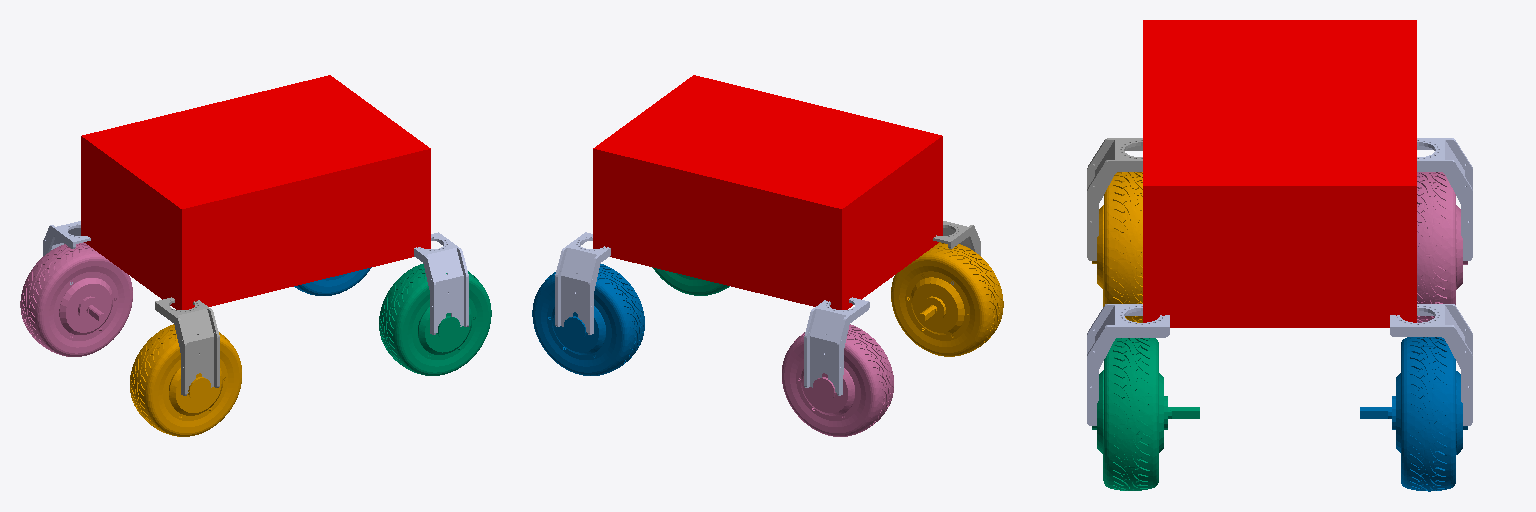
The robot description file, URDF, robot "ranger_mini_v3":
<?xml version="1.0" encoding="utf-8"?>
<robot name="ranger_mini_v3">

  <link name="base_link">
    <inertial>
      <origin xyz="-0.0242698272228022 -0.0030308024613212 0.0544267444673498" rpy="0 0 0" />
      <mass value="10" />
      <inertia ixx="0.1354" ixy="0.0" ixz="0.0" iyy="0.2417" iyz="0.0" izz="0.3085"/>
    </inertial>
    <visual>
      <origin xyz="0 0 0.0" rpy="0 0 0" />
      <geometry>
        <box size="0.5 0.35 0.2"/>
      </geometry>
      <material name="">
        <!-- <color rgba="0.792156862745098 0.819607843137255 0.933333333333333 1" /> -->
        <color rgba="1.0 0.0 0.0 1" />
      </material>
    </visual>
    <collision>
        <origin xyz="0 0 -0.1" rpy="0 0 0" />
        <geometry>
            <box size="0.5 0.35 0.2"/>
        </geometry>
    </collision>
  </link>
  <link name="fr_steering_wheel_link">
    <inertial>
      <origin xyz="1.8493E-05 1.2713E-06 0.043679" rpy="0 0 0" />
      <mass value="1" />
      <inertia ixx="0.0063625" ixy="-1.0581E-07" ixz="-4.0831E-07" iyy="0.006363" iyz="-3.4944E-08" izz="0.010465" />
    </inertial>
    <visual>
      <origin xyz="0 0 0" rpy="0 0 0" />
      <geometry>
        <mesh filename="../meshes/steering_wheel.obj" scale="10 10 10"/>
      </geometry>
      <material name="">
        <color rgba="0.79216 0.81961 0.93333 1" />
      </material>
    </visual>
    <collision>
      <origin xyz="0 0 0" rpy="0 0 0" />
      <geometry>
        <!-- <mesh filename="package://ranger_mini_v3/meshes/ranger_mini_v3_wheel_right.obj" /> -->
        <cylinder radius="0.001" length="0.001"/>
      </geometry>
    </collision>
  </link>
  <joint name="fr_steering_joint" type="revolute">     
    <origin xyz="0.25 -0.19 -0.1" rpy="0 0 0" />
    <parent link="base_link" />
    <child link="fr_steering_wheel_link" />
    <axis xyz="0 0 -1" />
    <limit effort="5" velocity="6.28"  lower="-2.1" upper="2.1" />
  </joint>

  <link name="fr_wheel_link">
    <inertial>
      <mass value="8" />
      <origin xyz="0 0 0" />
      <inertia ixx="0.02047" ixy="0.0" ixz="0.0" iyy="0.02047" iyz="0.0" izz="0.0324"/>            
    </inertial>
    <visual>
      <origin xyz="0 0 0" rpy="3.14 0 0" />
      <geometry>
        <mesh filename="../meshes/wheel_v3.obj" scale="10 10 10"/>
      </geometry>
    </visual>
    <collision>
      <origin xyz="0 0 -0.005" rpy="1.57 0 0" />
      <geometry>
          <cylinder length="0.08" radius="0.09" />
      </geometry>
      <contact>
          <ode>
        <min_depth>0.001</min_depth>
          </ode>
      </contact>
    </collision>
  </link>

  <joint name="fr_wheel" type="continuous">
    <origin xyz="0.0 0.0 -0.12" rpy="0 0 0" />
    <parent link="fr_steering_wheel_link"/>
    <child link="fr_wheel_link"/>
    <axis xyz="0 1 0" rpy="0 0 0" />
  </joint>


  <link name="fl_steering_wheel_link">
    <inertial>
      <origin
        xyz="-0.0017956 -9.6304E-08 0.043642"
        rpy="0 0 0" />
      <mass
        value="1" />
      <inertia
        ixx="0.0063695"
        ixy="-2.1067E-08"
        ixz="-0.00016867"
        iyy="0.006363"
        iyz="-1.0301E-08"
        izz="0.010458" />
    </inertial>
    <visual>
      <origin
        xyz="0 0 0"
        rpy="0 0 3.14" />
      <geometry>
        <mesh filename="../meshes/steering_wheel.obj" scale="10 10 10"/>
      </geometry>
      <material
        name="">
        <color
          rgba="0.79216 0.81961 0.93333 1" />
      </material>
    </visual>
    <collision>
      <origin
        xyz="0 0 0"
        rpy="0 0 0" />
      <geometry>
        <!-- <mesh
          filename="package://ranger_mini_v3/meshes/ranger_mini_v3_wheel.obj" /> -->
        <cylinder radius="0.001" length="0.001"/>
      </geometry>
    </collision>
  </link>
  <joint name="fl_steering_joint" type="revolute">
    <origin xyz="0.25 0.19 -0.1" rpy="0 0 0" />
    <parent link="base_link" />
    <child link="fl_steering_wheel_link" />
    <axis xyz="0 0 -1" />
    <limit effort="5" velocity="6.28"  lower="-2.1" upper="2.1" />
  </joint>

  <link name="fl_wheel_link">
    <inertial>
      <mass value="8" />
      <origin xyz="0 0 0" />
      <inertia ixx="0.02047" ixy="0.0" ixz="0.0" iyy="0.02047" iyz="0.0" izz="0.0324"/>            
    </inertial>
    <visual>
      <origin xyz="0 0 0" rpy="0 0 0" />
      <geometry>
        <mesh filename="../meshes/wheel_v3.obj" scale="10 10 10"/>
      </geometry>
    </visual>
    <collision>
      <origin xyz="0 0 -0.005" rpy="1.57 0 0" />
      <geometry>
          <cylinder length="0.08" radius="0.09" />
      </geometry>
      <contact>
        <ode>
          <min_depth>0.001</min_depth>
        </ode>
      </contact>
    </collision>
  </link>
  <joint name="fl_wheel" type="continuous">
      <origin xyz="0.0 0.0 -0.12" rpy="0 0 0" />
      <parent link="fl_steering_wheel_link"/>
      <child link="fl_wheel_link"/>
      <axis xyz="0 1 0" rpy="0 0 0" />
  </joint>

 <link name="rl_steering_wheel_link">
    <inertial>
      <origin xyz="-0.00017093 6.1255E-08 0.043678" rpy="0 0 0" />
      <mass value="1" />
      <inertia ixx="0.0063627" ixy="-2.1069E-08" ixz="-1.587E-05" iyy="0.006363" iyz="9.3201E-09" izz="0.010465" />
    </inertial>
    <visual>
      <origin xyz="0 0 0" rpy="0 0 3.14" />
      <geometry>
        <mesh filename="../meshes/steering_wheel.obj" scale="10 10 10"/>
      </geometry>
      <material name="">
        <color rgba="0.79216 0.81961 0.93333 1" />
      </material>
    </visual>
    <collision>
      <origin xyz="0 0 0" rpy="0 0 0" />
      <geometry>
        <!-- <mesh filename="package://ranger_mini_v3/meshes/ranger_mini_v3_wheel_right.obj" /> -->
        <cylinder radius="0.001" length="0.001"/>
      </geometry>
    </collision>
  </link>

  <joint name="rl_steering_joint" type="revolute">
    <origin xyz="-0.25 0.19 -0.1" rpy="0 0 0" />
    <parent link="base_link" />
    <child link="rl_steering_wheel_link" />
    <axis xyz="0 0 -1" />
    <limit effort="5" velocity="6.28"  lower="-2.1" upper="2.1" />
  </joint>

  <link name="rl_wheel_link">
    <inertial>
        <mass value="8" />
        <origin xyz="0 0 0" />
        <inertia ixx="0.02047" ixy="0.0" ixz="0.0" iyy="0.02047" iyz="0.0" izz="0.0324"/>            
    </inertial>
      <visual>
          <origin xyz="0 0 0" rpy="0 0 0" />
          <geometry>
            <mesh filename="../meshes/wheel_v3.obj" scale="10 10 10"/>
          </geometry>
      </visual>
      <collision>
        <origin xyz="0.00 0.00 -0.005" rpy="1.57 0 0" />
        <geometry>
          <cylinder length="0.08" radius="0.09" />
        </geometry>
        <contact>
          <ode>
            <min_depth>0.001</min_depth>
          </ode>
        </contact>
      </collision>
  </link>

  <joint name="rl_wheel" type="continuous">
      <origin xyz="0.0 0.0 -0.12 " rpy="0 0 0" />
      <parent link="rl_steering_wheel_link"/>
      <child link="rl_wheel_link"/>
      <axis xyz="0 1 0" rpy="0 0 0" />
  </joint>

   <link name="rr_steering_wheel_link">
      <inertial>
          <origin xyz="0.0 0.0 0.0"/>
          <mass value="1"/>
          <inertia ixx="0.01" ixy="0.0" ixz="0.0" iyy="0.01" iyz="0.0" izz="0.01"/>
      </inertial>
      <visual>
        <origin
          xyz="0 0 0"
          rpy="0 0 0" />
        <geometry>
          <mesh filename="../meshes/steering_wheel.obj" scale="10 10 10"/>
        </geometry>
      </visual>
      <collision>
          <origin  xyz="0 0 0" rpy="0 0 0" />
                  <geometry>
              <cylinder radius="0.001" length="0.001"/>
          </geometry>
      </collision>
    </link>
  <joint name="rr_steering_joint" type="revolute">
      <!-- <origin xyz="-0.23 -0.206 -0.1" rpy="0 0 0" /> -->
      <origin xyz="-0.25 -0.19 -0.1" rpy="0 0 0" />
      <parent link="base_link"/>
      <child link="rr_steering_wheel_link"/>
      <axis xyz="0 0 -1" rpy="0 0 0" />
      <limit effort="5" velocity="6.28"  lower="-2.1" upper="2.1" />
  </joint>

  <link name="rr_wheel_link">
    <inertial>
        <mass value="8" />
        <origin xyz="0 0 0" />
        <inertia ixx="0.02047" ixy="0.0" ixz="0.0" iyy="0.02047" iyz="0.0" izz="0.0324"/>            
    </inertial>
    <visual>
        <origin xyz="0.0 0.0 0.0" rpy="3.14 0 0" />
        <geometry>
            <mesh filename="../meshes/wheel_v3.obj" scale="10 10 10"/>
        </geometry>
    </visual>
    <collision>
      <origin xyz="0.0 0.0 -0.005" rpy="1.57 0 0" />
      <geometry>
          <cylinder length="0.08" radius="0.09" />
      </geometry>
      <contact>
        <ode>
          <min_depth>0.001</min_depth>
        </ode>
      </contact>
    </collision>
  </link>

  <joint name="rr_wheel" type="continuous">
      <origin xyz="0.0 0.0 -0.12 " rpy="0 0 0" />
      <parent link="rr_steering_wheel_link"/>
      <child link="rr_wheel_link"/>
      <axis xyz="0 1 0" rpy="0 0 0" />
  </joint>

<!-- 
	<transmission name="fl_steering_wheel_trans">
      <type>transmission_interface/SimpleTransmission</type>
      <joint name="fl_steering_joint">
		<hardwareInterface>hardware_interface/PositionJointInterface</hardwareInterface>
      </joint>
	  <actuator name="fl_steering_wheel_motor">
		<hardwareInterface>hardware_interface/PositionJointInterface</hardwareInterface>
		<mechanicalReduction>30</mechanicalReduction>
      </actuator>
	</transmission>

	<transmission name="fr_steering_wheel_trans">
      <type>transmission_interface/SimpleTransmission</type>
      <joint name="fr_steering_joint">
		<hardwareInterface>hardware_interface/PositionJointInterface</hardwareInterface>
      </joint>
	  <actuator name="fr_steering_wheel_motor">
		<hardwareInterface>hardware_interface/PositionJointInterface</hardwareInterface>
		<mechanicalReduction>30</mechanicalReduction>
      </actuator>
	</transmission>

	<transmission name="rl_steering_wheel_trans">
      <type>transmission_interface/SimpleTransmission</type>
      <joint name="rl_steering_joint">
		<hardwareInterface>hardware_interface/PositionJointInterface</hardwareInterface>
      </joint>
	  <actuator name="rl_steering_wheel_motor">
		<hardwareInterface>hardware_interface/PositionJointInterface</hardwareInterface>
		<mechanicalReduction>30</mechanicalReduction>
      </actuator>
	</transmission>

	<transmission name="rr_steering_wheel_trans">
      <type>transmission_interface/SimpleTransmission</type>
      <joint name="rr_steering_joint">
		<hardwareInterface>hardware_interface/PositionJointInterface</hardwareInterface>
      </joint>
	  <actuator name="rr_steering_wheel_motor">
		<hardwareInterface>hardware_interface/PositionJointInterface</hardwareInterface>
		<mechanicalReduction>30</mechanicalReduction>
      </actuator>
	</transmission>

	<transmission name="fl_wheel_trans">
      <type>transmission_interface/SimpleTransmission</type>
      <joint name="fl_wheel">
		<hardwareInterface>hardware_interface/VelocityJointInterface</hardwareInterface>
      </joint>
	  <actuator name="fl_wheel_motor">
		<hardwareInterface>hardware_interface/VelocityJointInterface</hardwareInterface>
		<mechanicalReduction>30</mechanicalReduction>
      </actuator>
	</transmission>

	<transmission name="fr_wheel_trans">
      <type>transmission_interface/SimpleTransmission</type>
      <joint name="fr_wheel">
		<hardwareInterface>hardware_interface/VelocityJointInterface</hardwareInterface>
      </joint>
	  <actuator name="fr_wheel_motor">
		<hardwareInterface>hardware_interface/VelocityJointInterface</hardwareInterface>
		<mechanicalReduction>30</mechanicalReduction>
      </actuator>
	</transmission>

	<transmission name="rl_wheel_trans">
      <type>transmission_interface/SimpleTransmission</type>
      <joint name="rl_wheel">
		<hardwareInterface>hardware_interface/VelocityJointInterface</hardwareInterface>
      </joint>
	  <actuator name="rl_wheel_motor">
		<hardwareInterface>hardware_interface/VelocityJointInterface</hardwareInterface>
		<mechanicalReduction>30</mechanicalReduction>
      </actuator>
	</transmission>

	<transmission name="rr_wheel_trans">
      <type>transmission_interface/SimpleTransmission</type>
      <joint name="rr_wheel">
		<hardwareInterface>hardware_interface/VelocityJointInterface</hardwareInterface>
      </joint>
	  <actuator name="rr_wheel_motor">
		<hardwareInterface>hardware_interface/VelocityJointInterface</hardwareInterface>
		<mechanicalReduction>30</mechanicalReduction>
      </actuator>
	</transmission>
  <gazebo>
    <plugin name="gazebo_ros_control" filename="libgazebo_ros_control.so">
    </plugin>
  </gazebo> -->



</robot>

--- Facts derived from the render (not from the file) ---
Views: 3 orthographic renders of the robot side by side, from view 1: azimuth 30°, elevation 25°; view 2: azimuth 150°, elevation 25°; view 3: azimuth 270°, elevation 25°.
Robot: ranger_mini_v3 — 9 links, 8 joints (4 revolute, 4 continuous); root link base_link; default pose: every joint at zero.
Visible links, largest first — view 1: base_link, rl_wheel_link, rr_wheel_link, fr_wheel_link, rr_steering_wheel_link, fr_steering_wheel_link, fl_wheel_link, rl_steering_wheel_link; view 2: base_link, rr_wheel_link, fl_wheel_link, rl_wheel_link, rl_steering_wheel_link, fl_steering_wheel_link, fr_wheel_link, rr_steering_wheel_link; view 3: base_link, fl_wheel_link, fr_wheel_link, rr_wheel_link, rl_wheel_link, fr_steering_wheel_link, fl_steering_wheel_link, rr_steering_wheel_link, rl_steering_wheel_link.
Boxes of the visible links, x1,y1,x2,y2 form: base_link: (81,75,430,309); rl_wheel_link: (20,242,132,356); rr_wheel_link: (130,324,241,436); fr_wheel_link: (379,264,491,375); rr_steering_wheel_link: (155,297,219,395); fr_steering_wheel_link: (414,232,468,334); fl_wheel_link: (294,267,371,295); rl_steering_wheel_link: (43,221,90,284); base_link: (593,75,942,309); rr_wheel_link: (891,242,1003,356); fl_wheel_link: (532,264,644,375); rl_wheel_link: (782,324,893,436); rl_steering_wheel_link: (804,297,869,395); fl_steering_wheel_link: (555,232,610,334); fr_wheel_link: (652,267,729,295); rr_steering_wheel_link: (933,221,980,284); base_link: (1143,20,1416,327); fl_wheel_link: (1360,337,1467,491); fr_wheel_link: (1092,338,1199,490); rr_wheel_link: (1092,172,1142,322); rl_wheel_link: (1417,172,1467,322); fr_steering_wheel_link: (1087,304,1169,425); fl_steering_wheel_link: (1390,304,1472,425); rr_steering_wheel_link: (1087,138,1142,260); rl_steering_wheel_link: (1417,138,1472,260).
Size in the robot's own frame: 0.7007 by 0.4923 by 0.4205 metres.
Meshes: 2 distinct files referenced, 8 mesh visuals loaded (2 OBJ).
